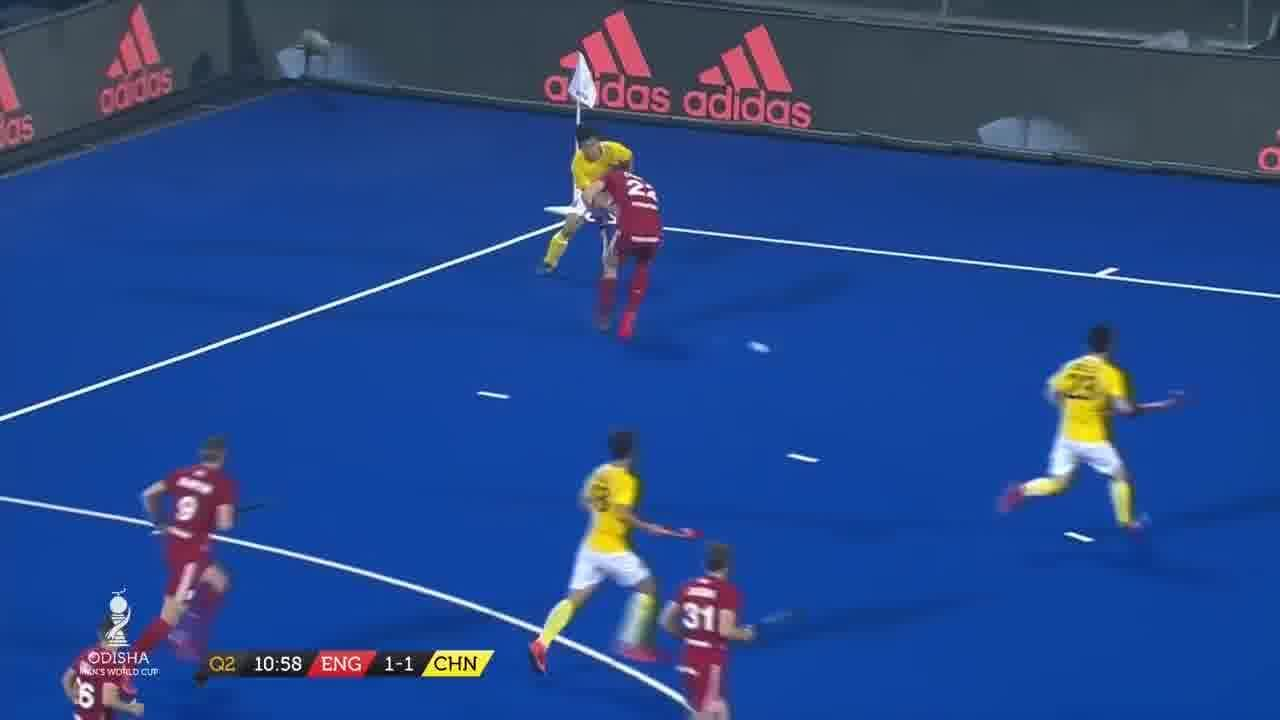ball: (738, 333, 776, 361)
